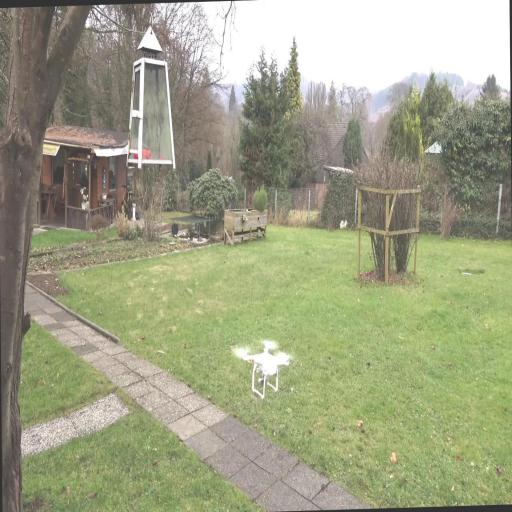drone: (237, 340, 290, 399)
